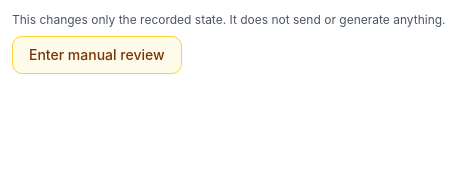
ManualReviewControl › shows stale guidance and refreshes on 409
Click the button "Enter manual review".
click(97, 55)  # box [12,36,182,74]
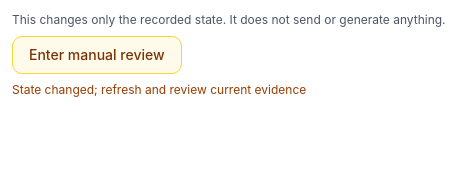
Expected: the text "State changed; refresh and review current evidence" is shown, [12,82,306,97]
